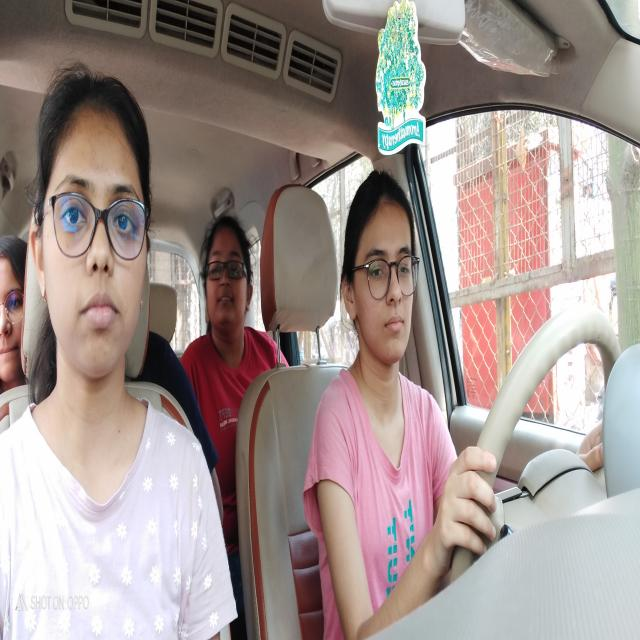person: (48, 99, 152, 381), (348, 187, 416, 367), (202, 224, 253, 332), (0, 246, 26, 383)
